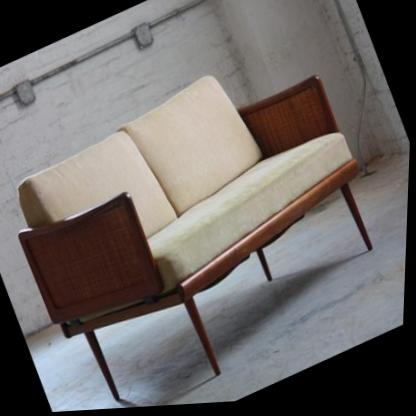Sofa: (0, 23, 415, 416)
